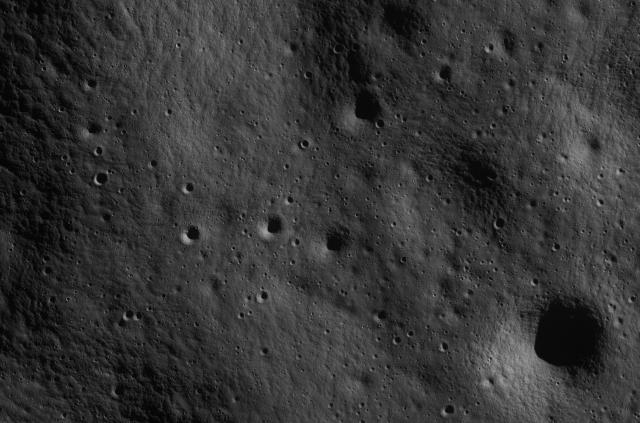crater: (526, 294, 608, 376), (462, 158, 500, 190), (350, 90, 384, 123), (381, 3, 415, 36), (344, 53, 370, 83), (24, 2, 48, 22), (323, 234, 345, 255), (180, 226, 202, 246), (264, 217, 284, 237), (584, 138, 604, 156), (437, 64, 453, 82), (17, 96, 33, 114), (2, 84, 18, 102), (85, 121, 102, 137), (0, 103, 16, 119), (60, 218, 76, 233), (92, 172, 108, 186), (29, 107, 43, 123), (112, 385, 128, 399), (37, 210, 53, 223), (442, 404, 456, 418), (376, 310, 390, 324), (500, 38, 514, 52), (182, 181, 196, 194), (140, 367, 154, 380), (498, 105, 512, 117), (85, 78, 98, 90), (374, 118, 386, 130), (257, 290, 269, 302), (494, 218, 506, 230), (333, 42, 345, 54), (101, 212, 113, 224), (46, 294, 58, 306), (438, 341, 450, 353), (287, 43, 299, 55), (115, 318, 128, 328), (92, 146, 104, 156), (42, 266, 54, 276), (284, 194, 294, 206), (486, 376, 496, 388), (528, 198, 538, 210), (372, 71, 384, 81), (484, 42, 494, 53), (300, 140, 310, 150), (149, 159, 159, 169), (351, 42, 361, 52), (303, 70, 313, 80), (42, 254, 52, 264), (260, 347, 270, 357), (292, 238, 302, 248), (608, 255, 618, 265), (474, 129, 484, 139), (134, 312, 144, 321), (164, 108, 173, 118), (318, 28, 327, 38), (124, 312, 134, 320), (552, 244, 562, 252), (59, 104, 67, 114), (130, 372, 138, 382), (596, 198, 604, 208), (629, 294, 637, 304), (508, 78, 516, 88), (19, 187, 27, 197), (393, 112, 402, 120), (1, 125, 8, 135), (532, 278, 540, 286), (393, 337, 401, 345), (31, 156, 39, 164), (426, 174, 434, 182), (400, 256, 408, 264), (282, 163, 290, 171), (120, 128, 128, 136), (115, 293, 123, 301), (238, 312, 246, 320), (536, 42, 544, 50), (562, 54, 570, 62), (194, 388, 202, 396), (232, 395, 240, 403), (61, 412, 69, 419), (174, 43, 183, 49), (489, 123, 496, 130), (62, 154, 68, 162), (421, 38, 427, 46), (60, 354, 66, 362), (358, 402, 366, 408), (336, 172, 340, 180), (328, 403, 334, 408), (361, 420, 365, 423)
